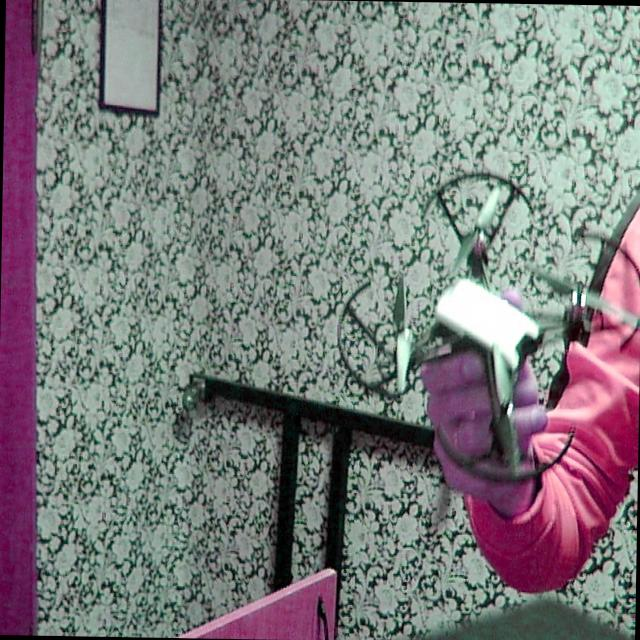drone: (330, 149, 640, 485)
